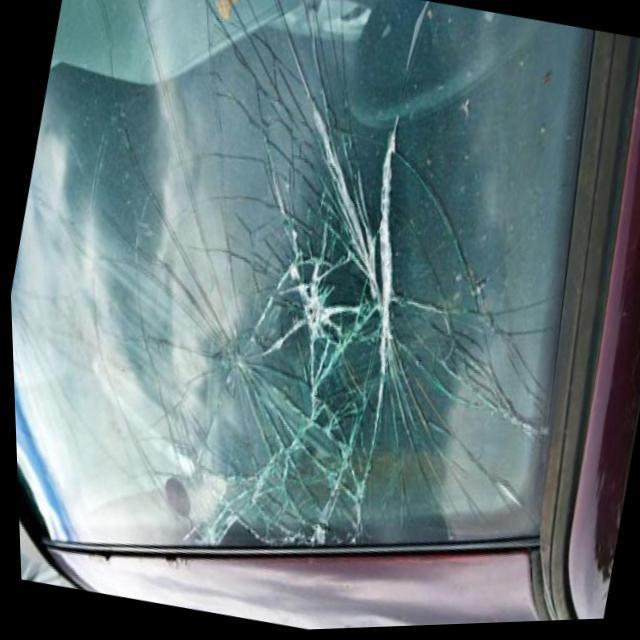Glass_Break: (20, 0, 615, 597)
